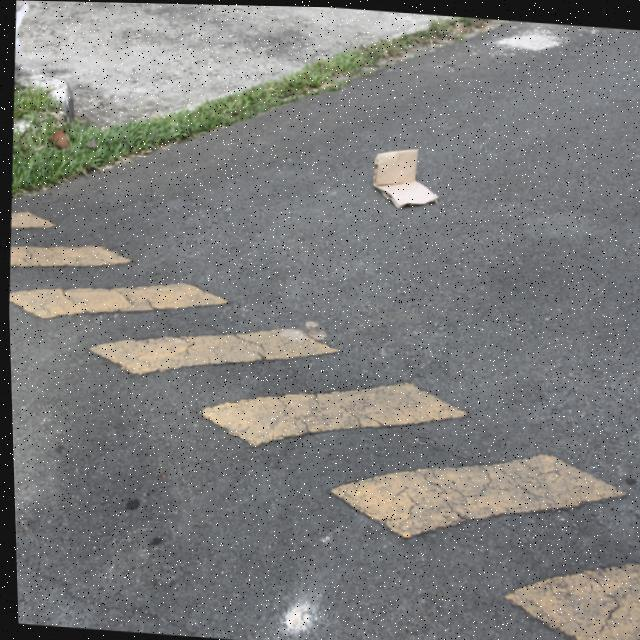Paper_Bag: (370, 144, 440, 211)
